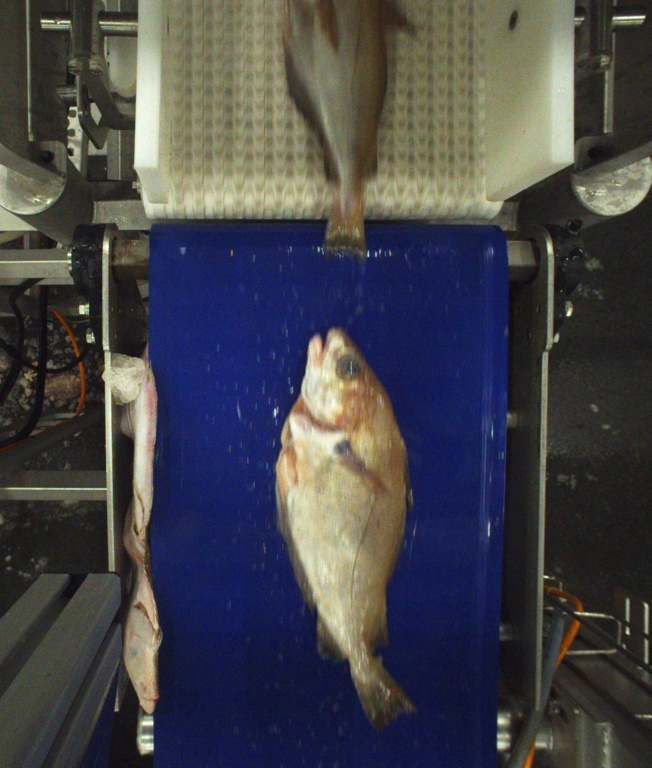BIB: (273, 331, 420, 722)
